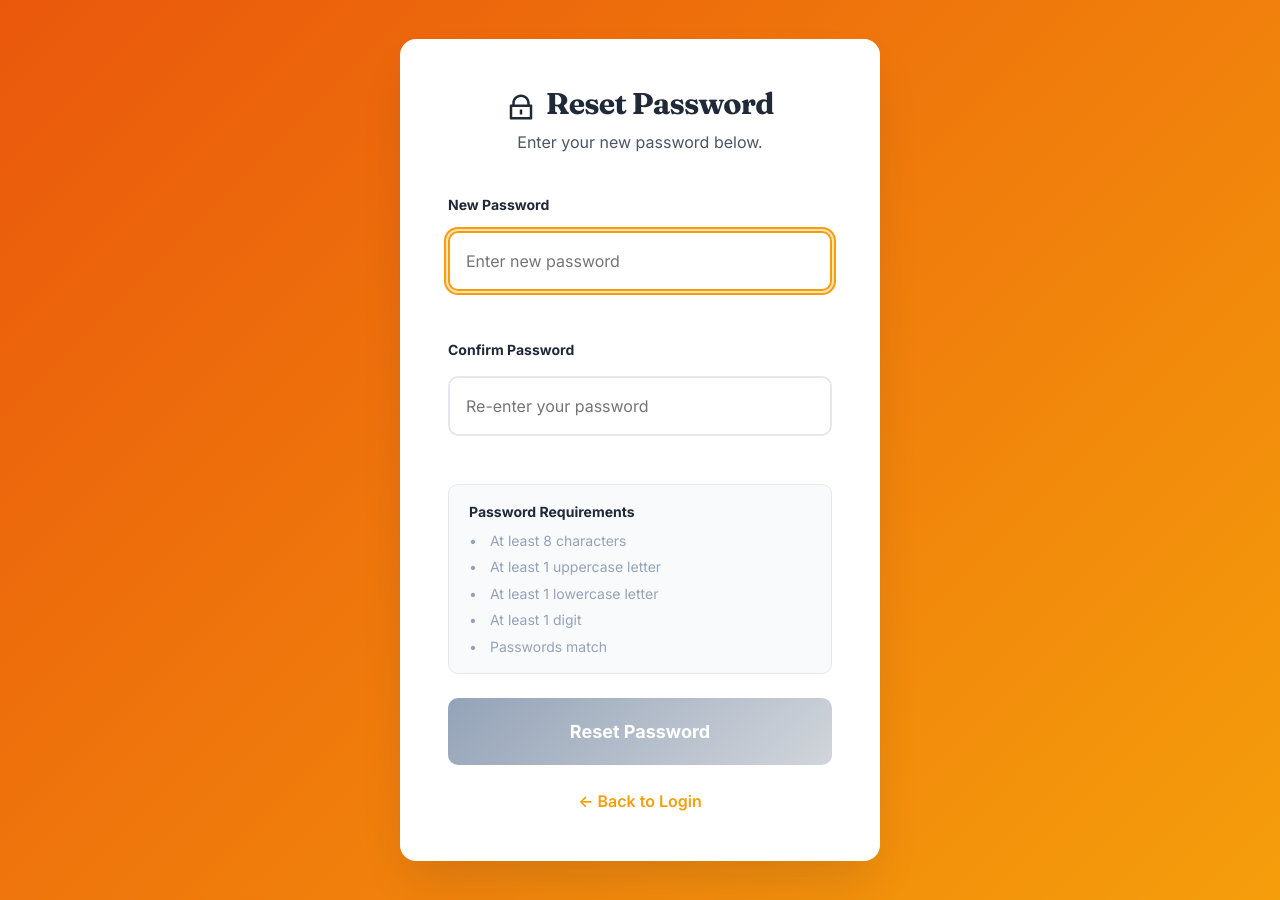
Test: ResetPassword › submits successfully and shows success message
Type "NewPass123" into the password field with test id "reset-password-password" at (640, 261), box [448, 231, 832, 291]
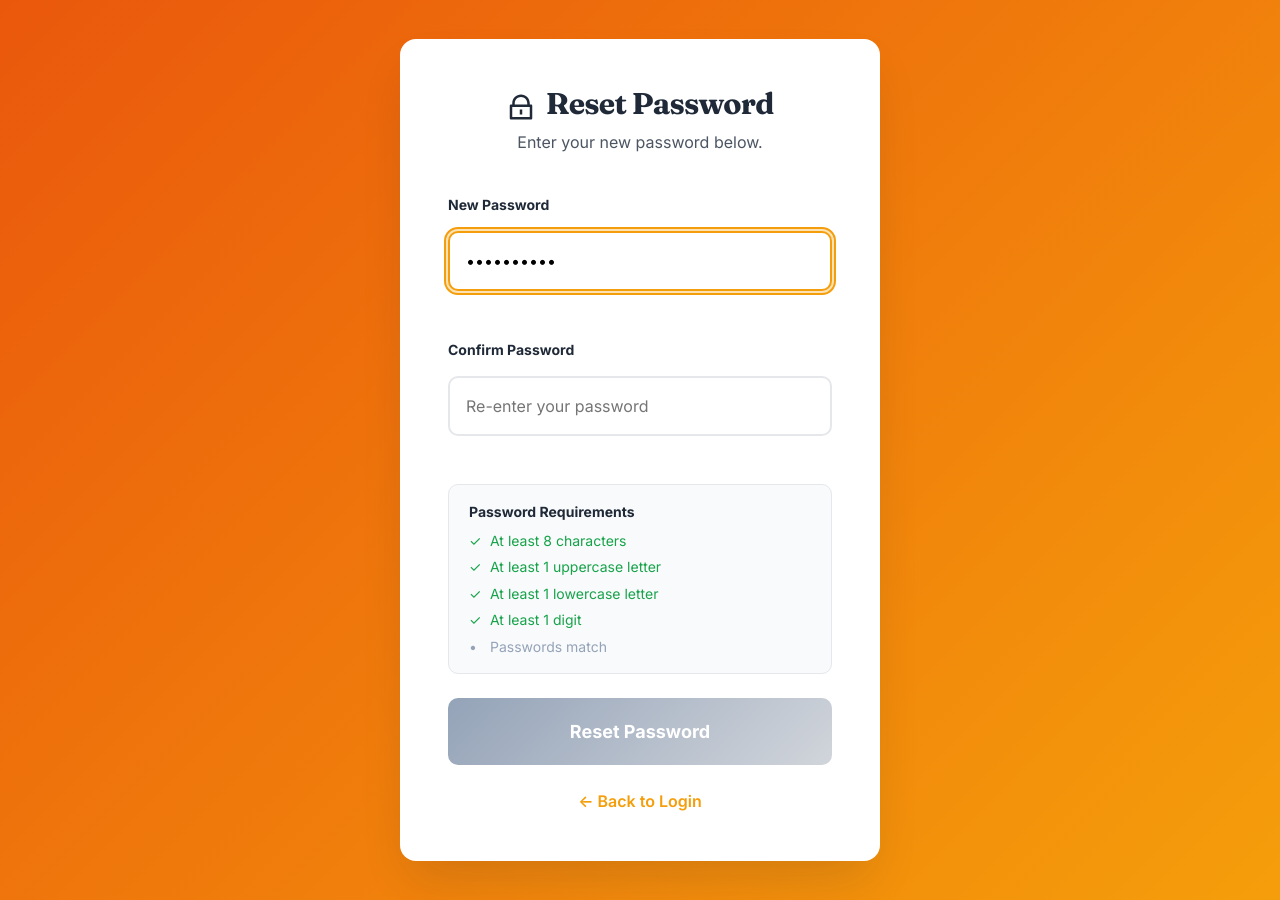
Type "NewPass123" into the password field with test id "reset-password-confirm" at (640, 406), box [448, 376, 832, 436]
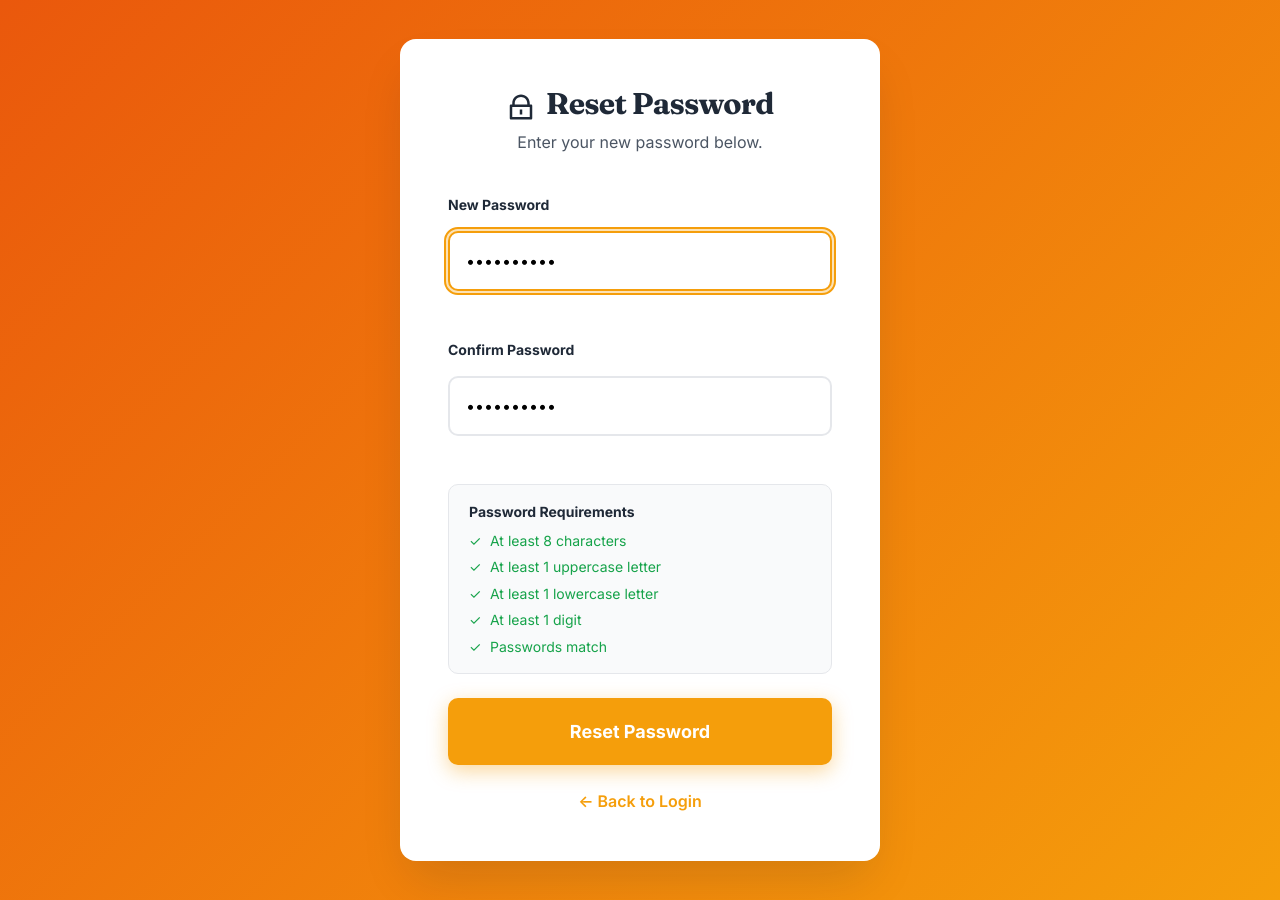
Click the button with test id "reset-password-submit" at (640, 732), box [448, 698, 832, 765]
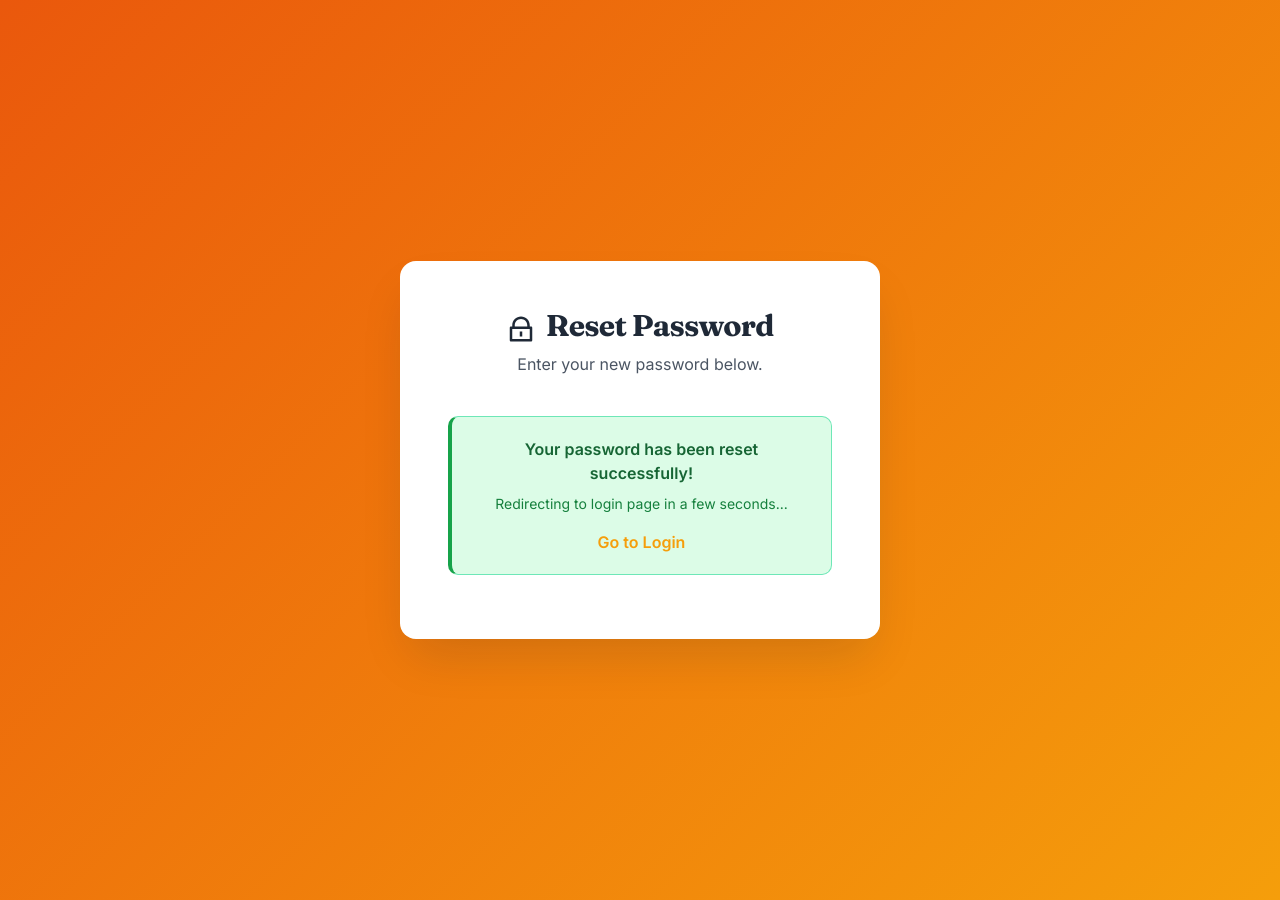
Expected: the element with test id "reset-password-success" is shown, [448, 416, 832, 575]
